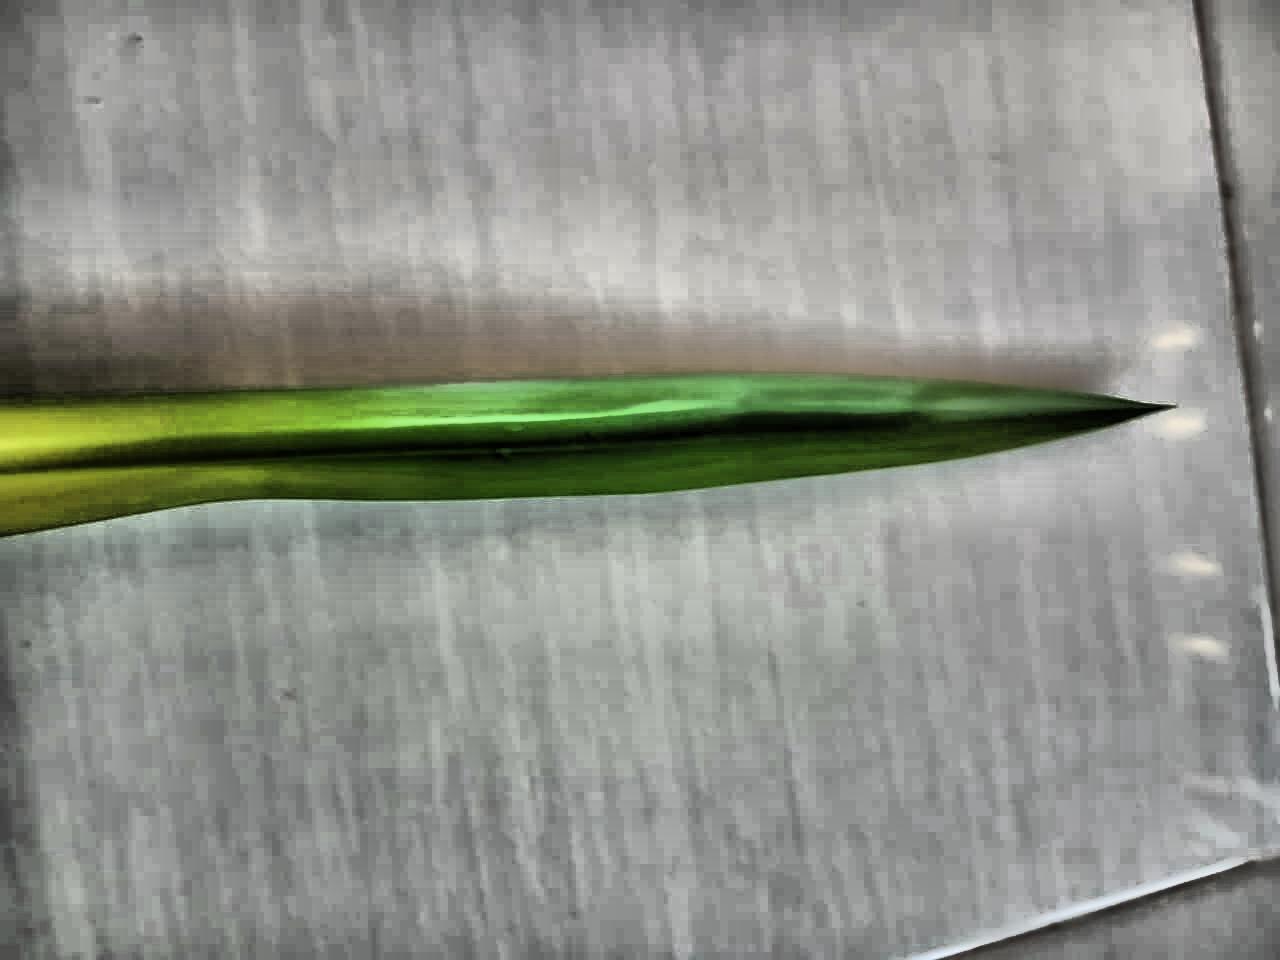daun pandan: (0, 373, 1166, 536)
